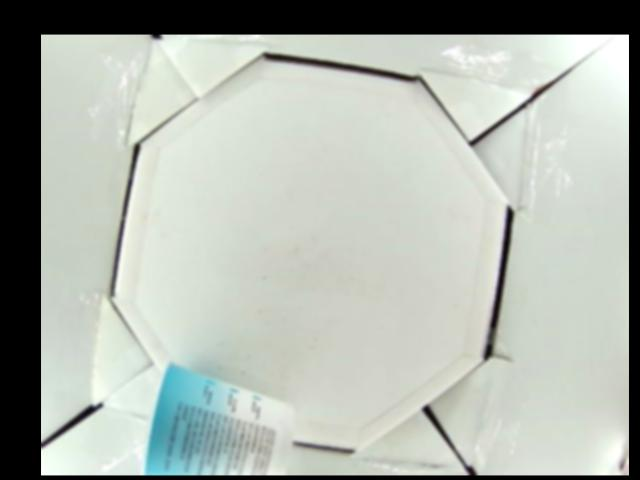Cup: (141, 361, 293, 475)
